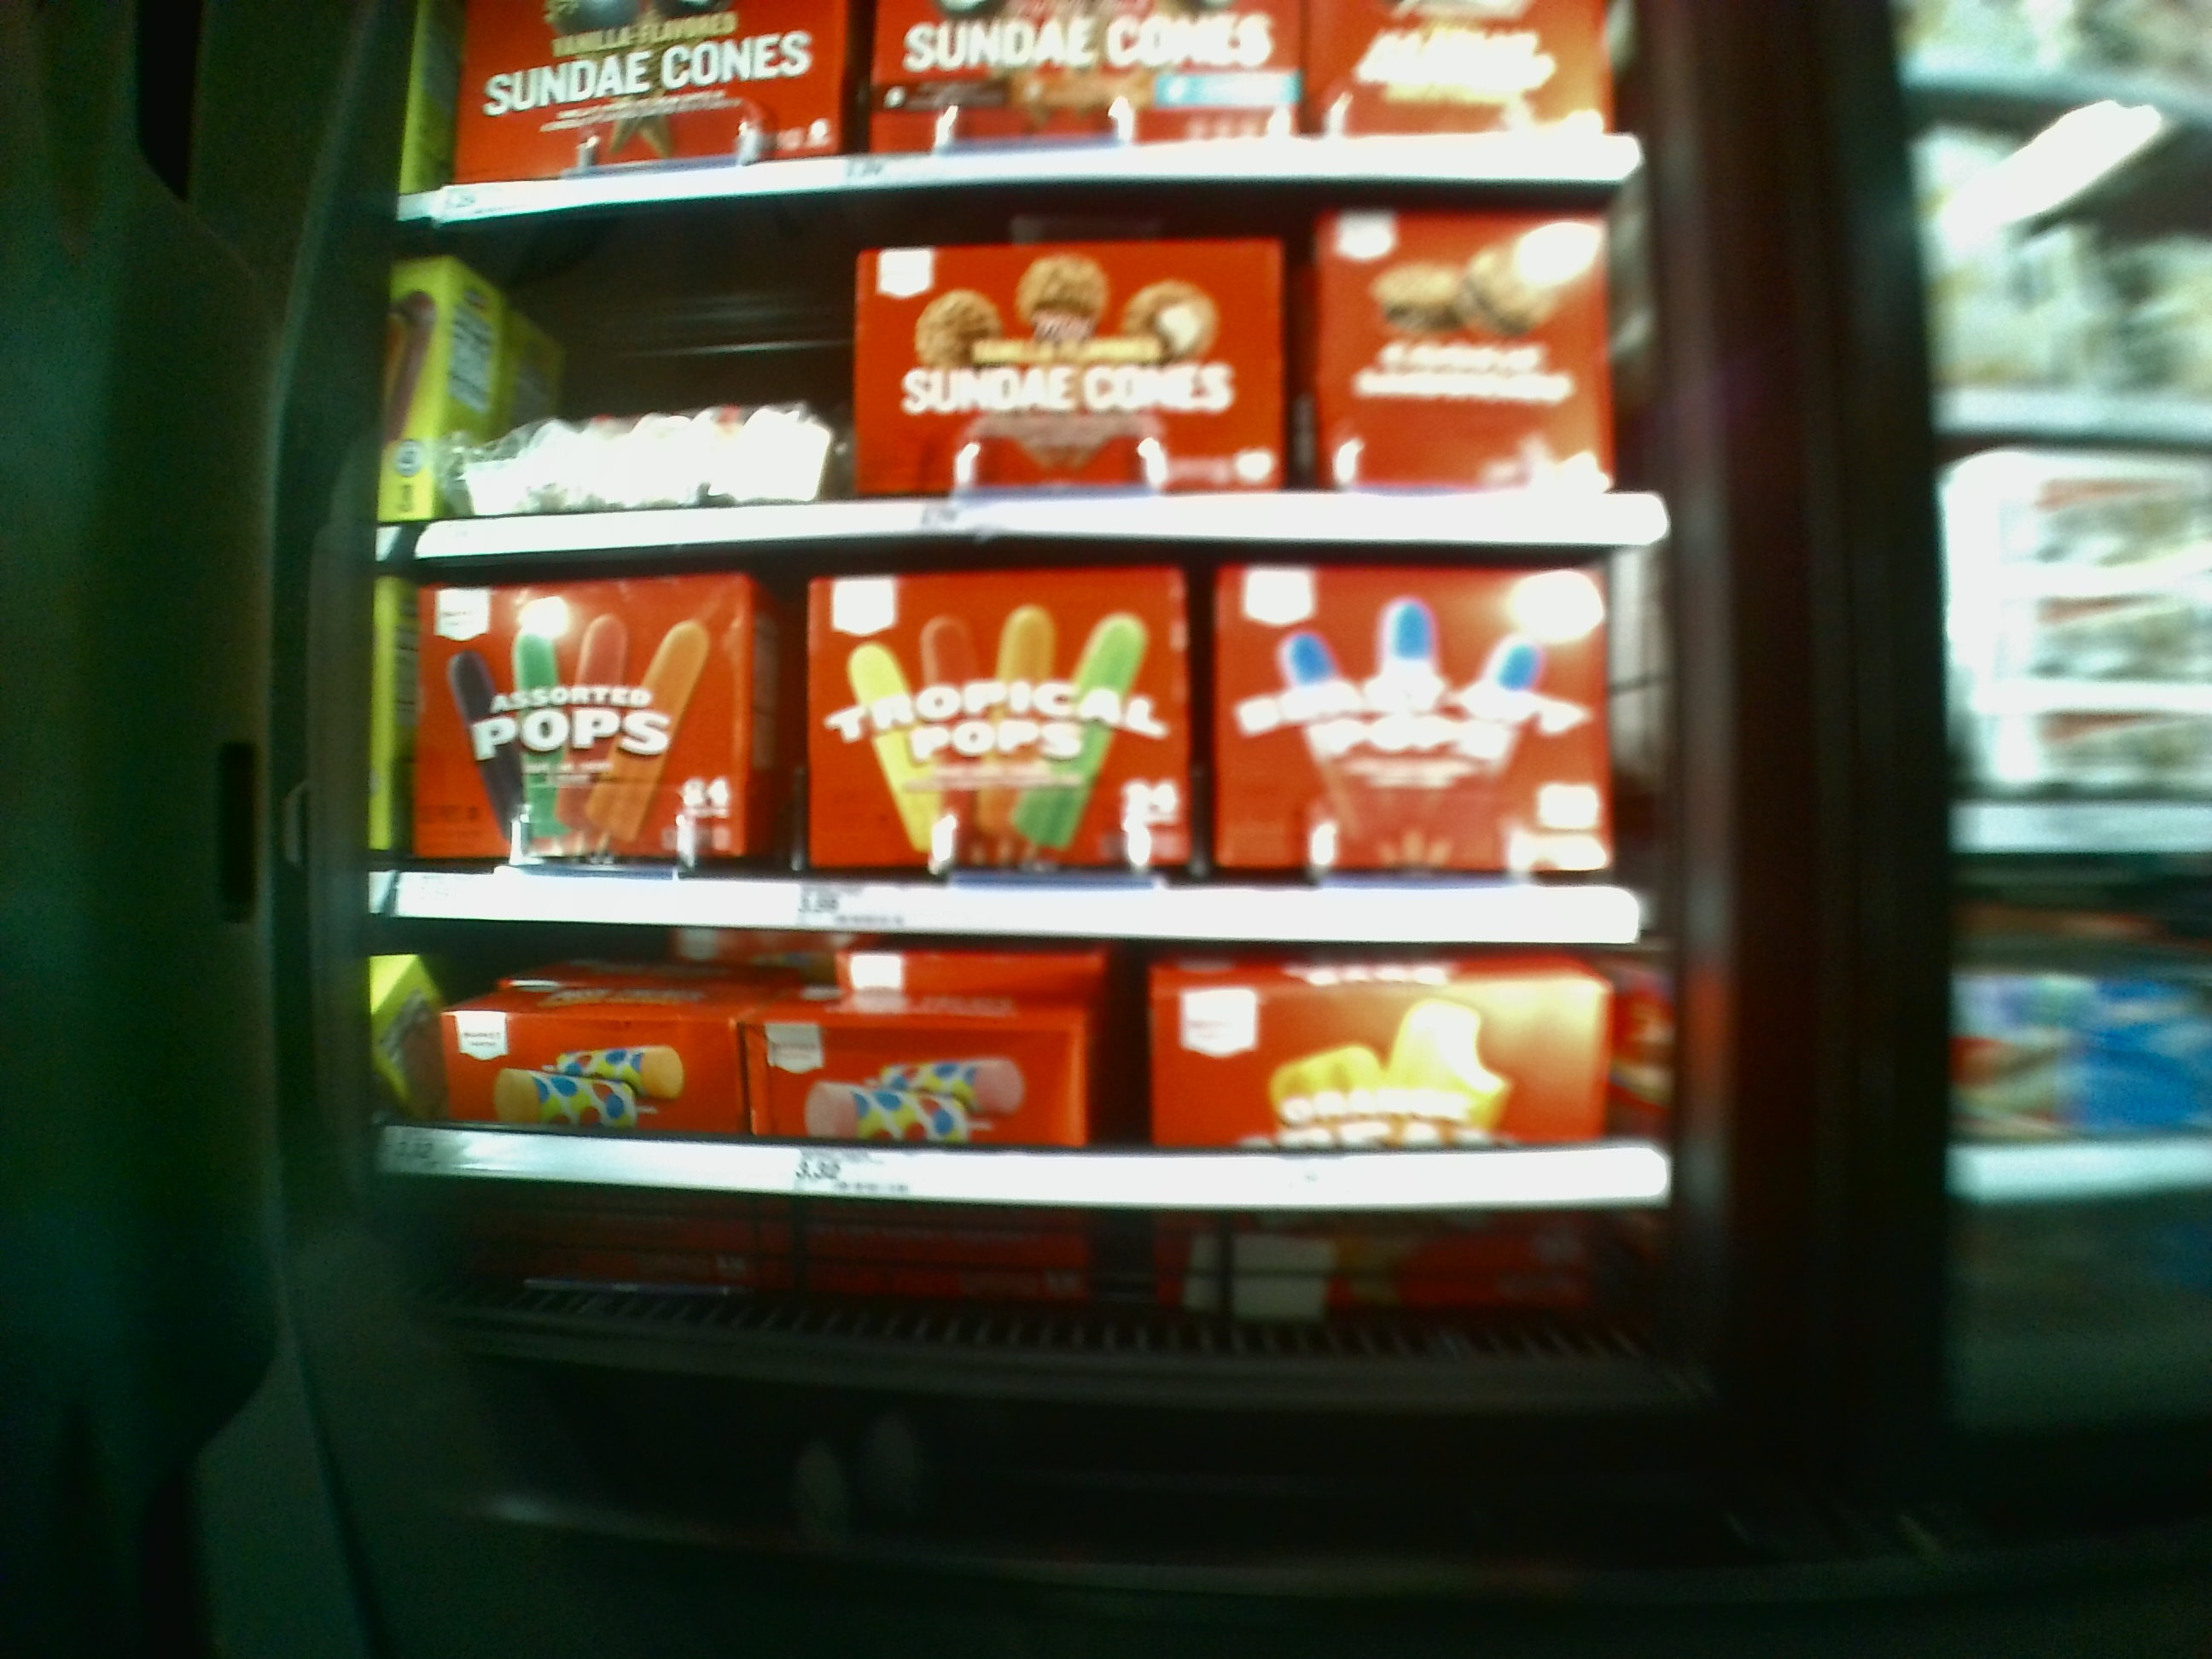shelf: (406, 917, 1660, 1373), (408, 563, 1649, 950), (442, 197, 1646, 542)
